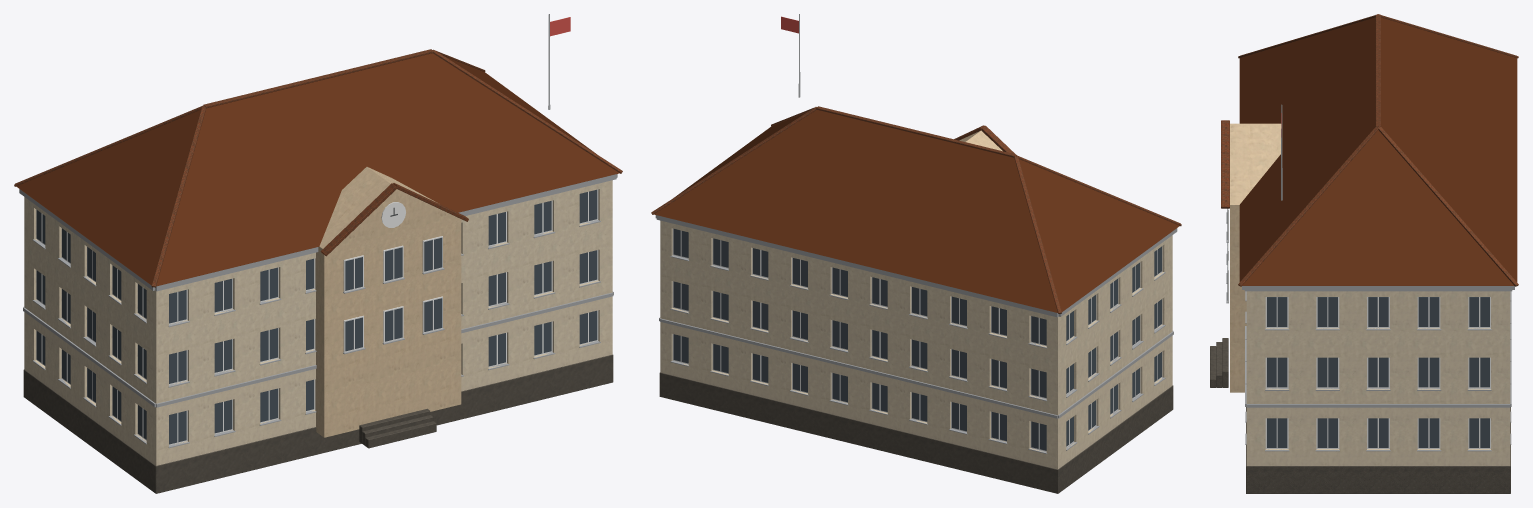
Rendered from town-hall.glb.
The picture shows the model from 3 angles, left to right: view 1: azimuth 30°, elevation 25°; view 2: azimuth 150°, elevation 25°; view 3: azimuth 270°, elevation 25°; orthographic projection. The views are drawn at different scales.
Parts seen in each view (by area): view 1: town-hall-plaster0; view 2: town-hall-plaster0; view 3: town-hall-plaster0.
Part boxes in pixels (left/top/right/bottom): town-hall-plaster0: left=14, top=14, right=622, bottom=493; town-hall-plaster0: left=651, top=14, right=1181, bottom=493; town-hall-plaster0: left=1210, top=14, right=1518, bottom=493.
Bounding box in the file's own units: 30.98 × 23.03 × 17.56.
Materials: 11 (5 with a texture image).
